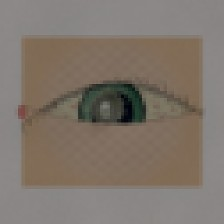corneal_ulcer: (79, 85, 135, 130)
